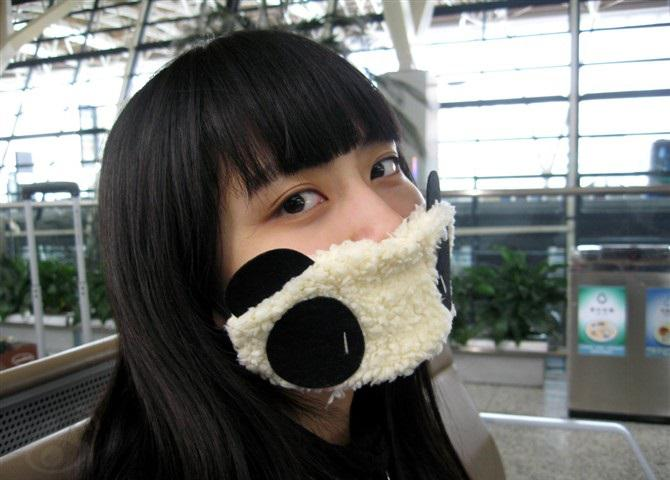WRONG: (222, 143, 457, 378)
